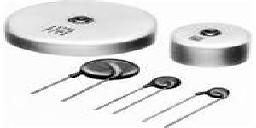Electrolytic-Capacitor: (170, 20, 253, 67), (69, 58, 143, 91), (142, 70, 185, 96), (189, 83, 235, 107)
